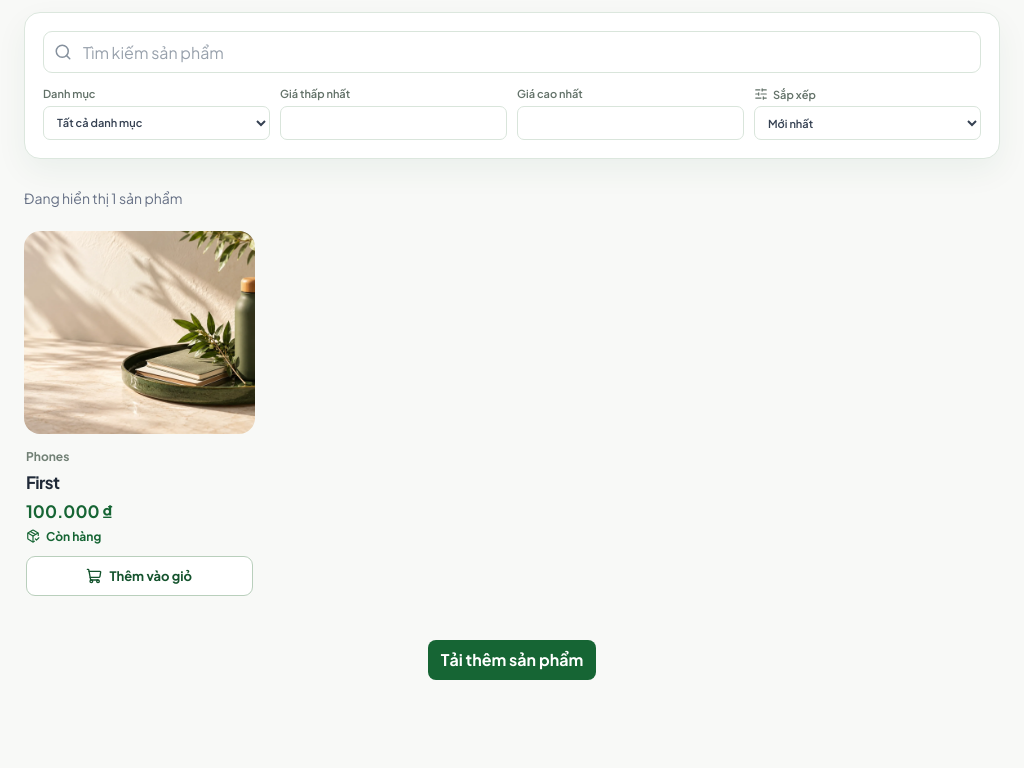
Test: storefront cursor mode › does not scroll when more products are loaded
(page scrolled)
expect the link "First" is shown: met, box [26,471,59,493]
Click the button "Tải thêm sản phẩm": [512, 660] box [428,640,596,680]
(page scrolled)
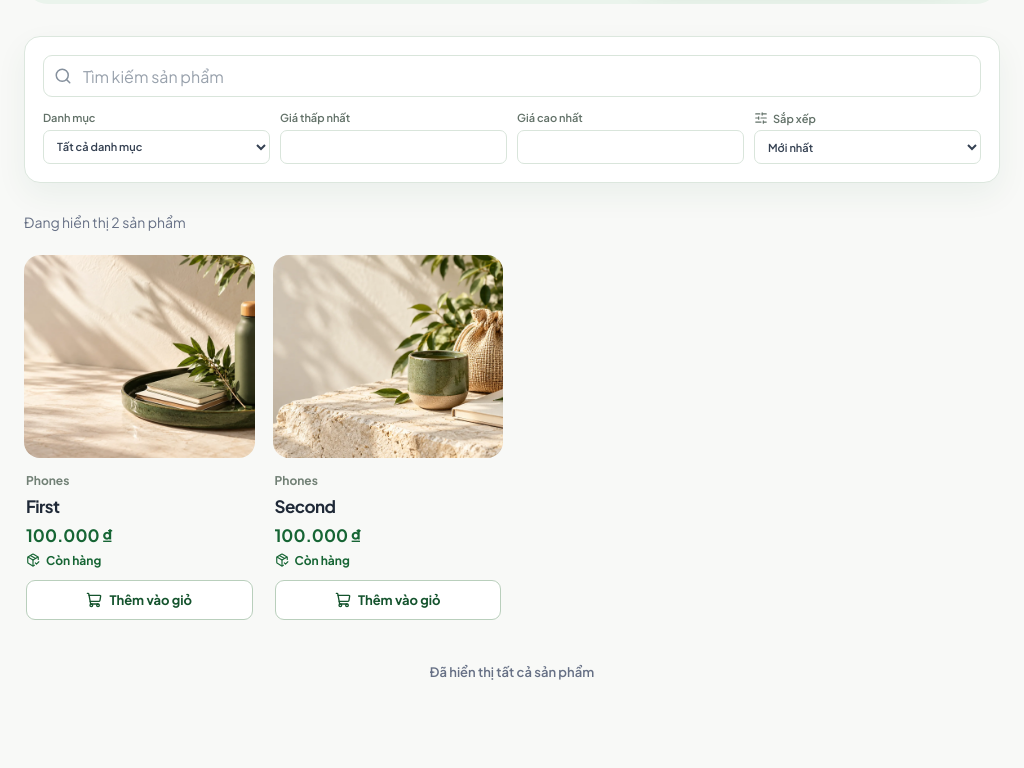
expect the link "Second" is shown: met, box [274,495,335,517]
